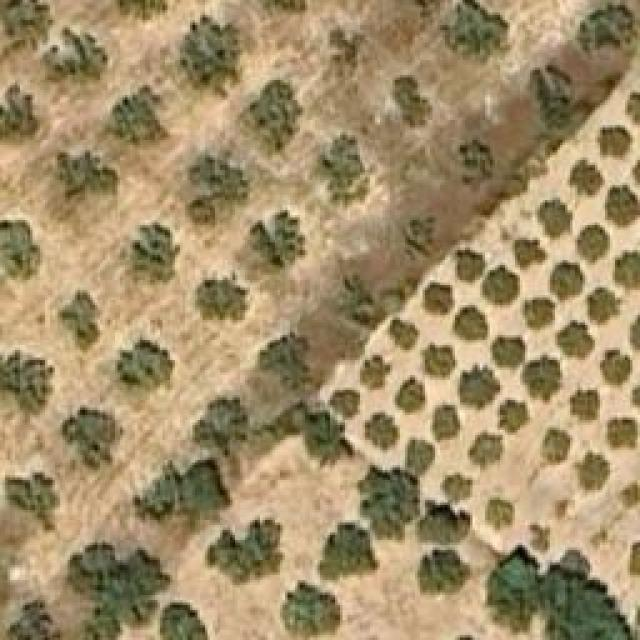Tree: (70, 542, 158, 640), (205, 520, 288, 588), (138, 460, 231, 520), (185, 155, 255, 230), (178, 15, 241, 95), (488, 542, 538, 630), (250, 80, 303, 163), (418, 473, 473, 546), (118, 223, 181, 286), (440, 0, 508, 58), (115, 335, 175, 398), (280, 582, 343, 640), (360, 463, 418, 526), (0, 350, 55, 415), (310, 148, 368, 208), (60, 408, 115, 471), (313, 523, 376, 578), (45, 30, 108, 83), (5, 472, 60, 530), (107, 95, 165, 150), (245, 215, 303, 265), (523, 65, 573, 123), (195, 272, 253, 320), (58, 290, 101, 353), (580, 8, 630, 61), (300, 410, 350, 463), (55, 157, 110, 205), (198, 398, 248, 448), (0, 85, 38, 150), (0, 220, 40, 280), (523, 353, 568, 406), (268, 338, 311, 393), (418, 550, 471, 593), (455, 363, 500, 413), (0, 0, 50, 45), (327, 25, 365, 75), (602, 182, 640, 230), (535, 197, 573, 245), (160, 605, 210, 640), (573, 450, 613, 493), (10, 597, 50, 640), (580, 288, 623, 328), (390, 83, 428, 128), (467, 430, 505, 473), (557, 320, 595, 363), (450, 305, 490, 343), (115, 0, 175, 25), (458, 138, 491, 183), (360, 355, 393, 398), (575, 223, 610, 263), (550, 263, 585, 303), (420, 343, 458, 378), (567, 160, 605, 195), (485, 267, 520, 305), (568, 383, 601, 423), (540, 428, 573, 468), (612, 250, 640, 295), (423, 282, 456, 320), (490, 335, 525, 370), (400, 215, 435, 250), (598, 128, 633, 161), (365, 415, 398, 450), (605, 418, 640, 451), (498, 400, 531, 435), (523, 298, 556, 333), (393, 377, 423, 415), (600, 350, 630, 388), (485, 497, 513, 535), (432, 402, 460, 440), (453, 250, 483, 283), (390, 320, 418, 350), (263, 0, 308, 18), (512, 240, 540, 268)
